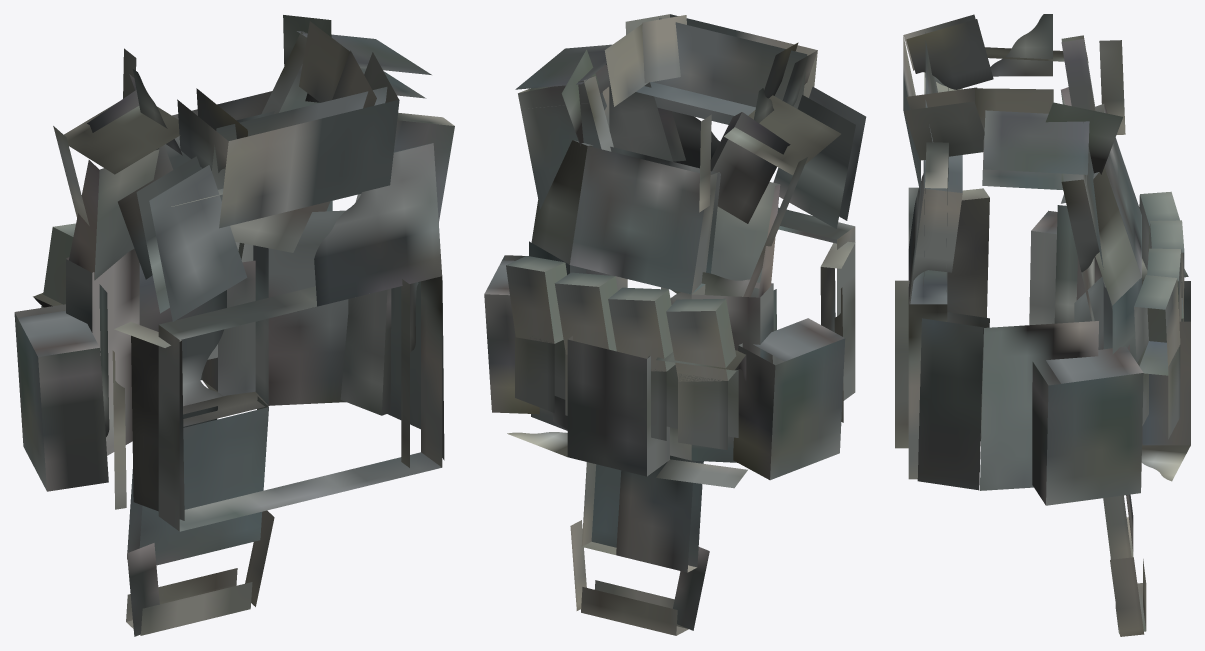
Rendered from us_mobilized.obj.
3 views of the same model, side by side, from view 1: azimuth 30°, elevation 25°; view 2: azimuth 150°, elevation 25°; view 3: azimuth 270°, elevation 25° (orthographic). The views are drawn at different scales.
Visible parts, largest first — view 1: mesh; view 2: mesh; view 3: mesh.
Boxes of the visible parts, <box> form: mesh: <box>14,15,454,636</box>; mesh: <box>484,14,866,635</box>; mesh: <box>895,14,1190,636</box>.
Size of the model in its own units: 0.8039 by 1.19 by 0.575.
